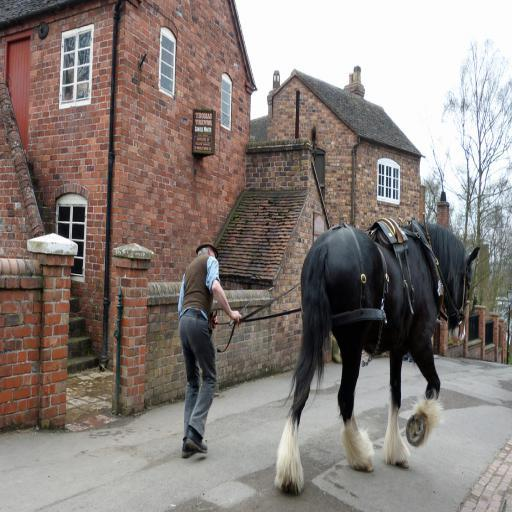Horse: (274, 222, 480, 498)
